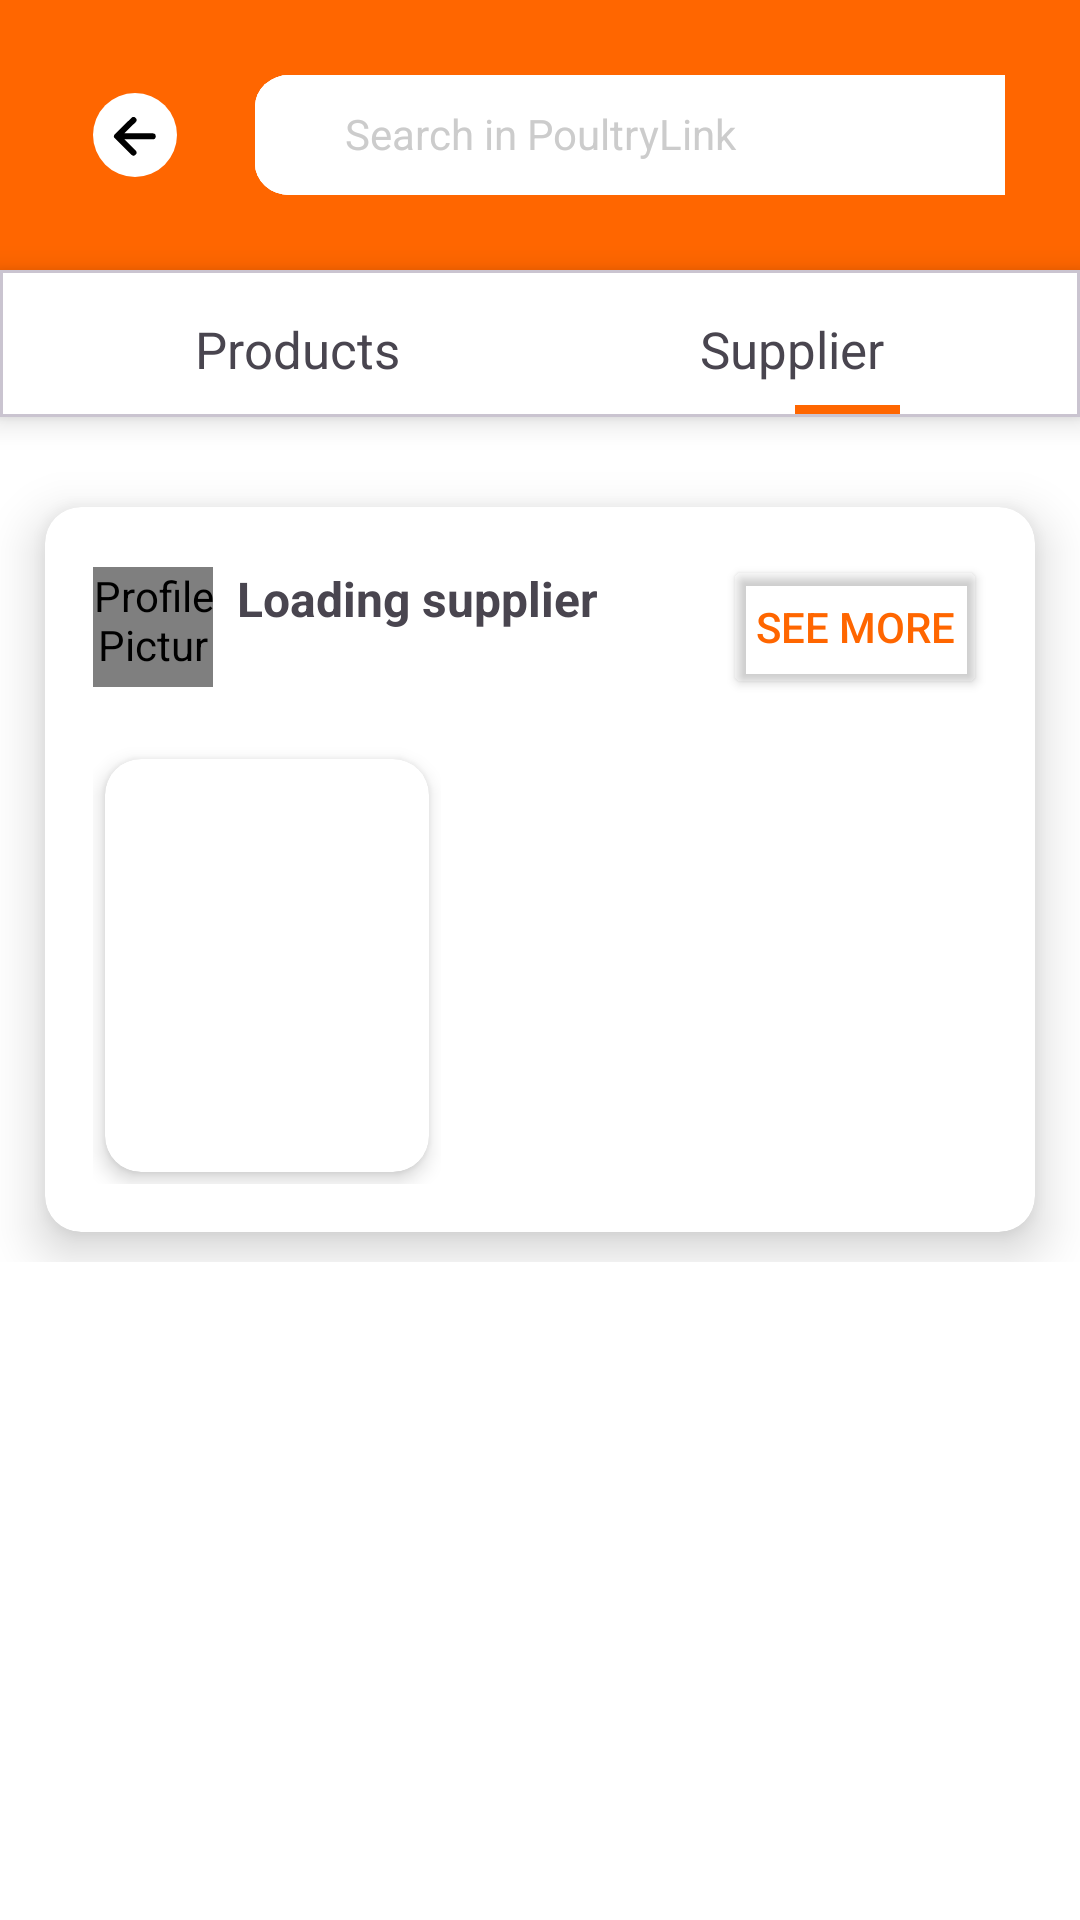

Named icons in this screenshot (1080 x 1920) and their bounding boxes, bbox=(x1, y1, x2, y2):
Back: bbox=(93, 93, 177, 177)
